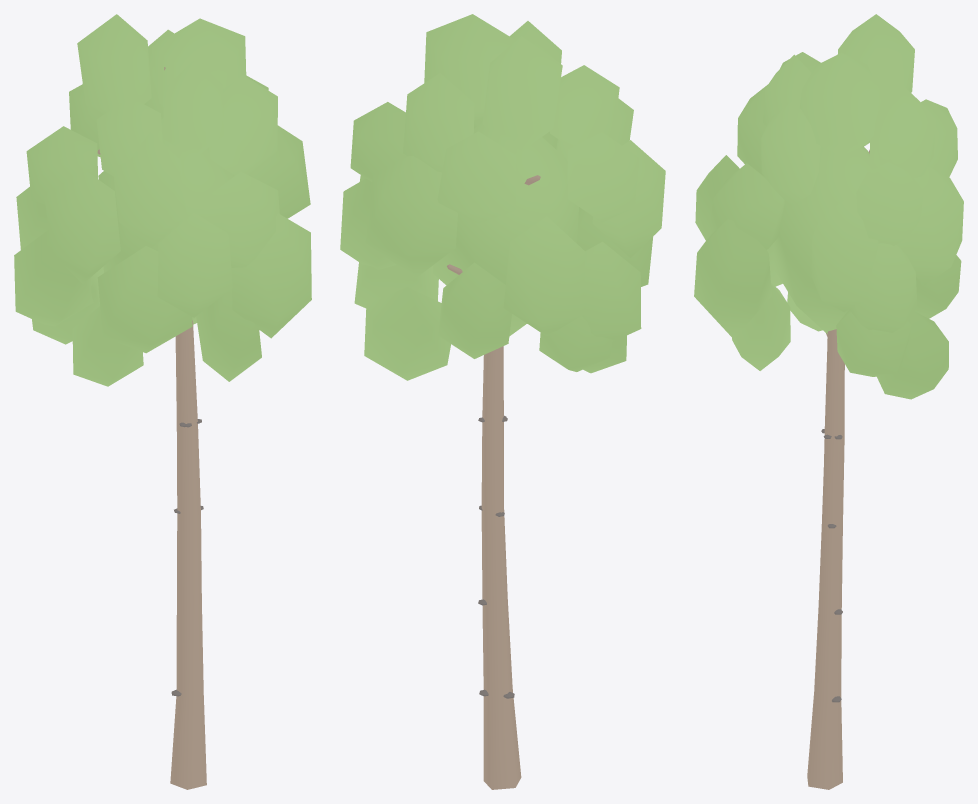
Rendered from Blender_Aspen_3_Far.glb.
The picture shows the model from 3 angles, left to right: view 1: azimuth 30°, elevation 25°; view 2: azimuth 150°, elevation 25°; view 3: azimuth 270°, elevation 25°; orthographic projection. The views are drawn at different scales.
Parts seen in each view (by area): view 1: Blender_Aspen_3_Far; view 2: Blender_Aspen_3_Far; view 3: Blender_Aspen_3_Far.
Part boxes in pixels (box(x1,y1,x2,y2)): Blender_Aspen_3_Far: box(14, 14, 311, 789); Blender_Aspen_3_Far: box(340, 14, 665, 789); Blender_Aspen_3_Far: box(694, 14, 963, 789).
Bounding box in the file's own units: 6.56 × 17.03 × 5.58.
